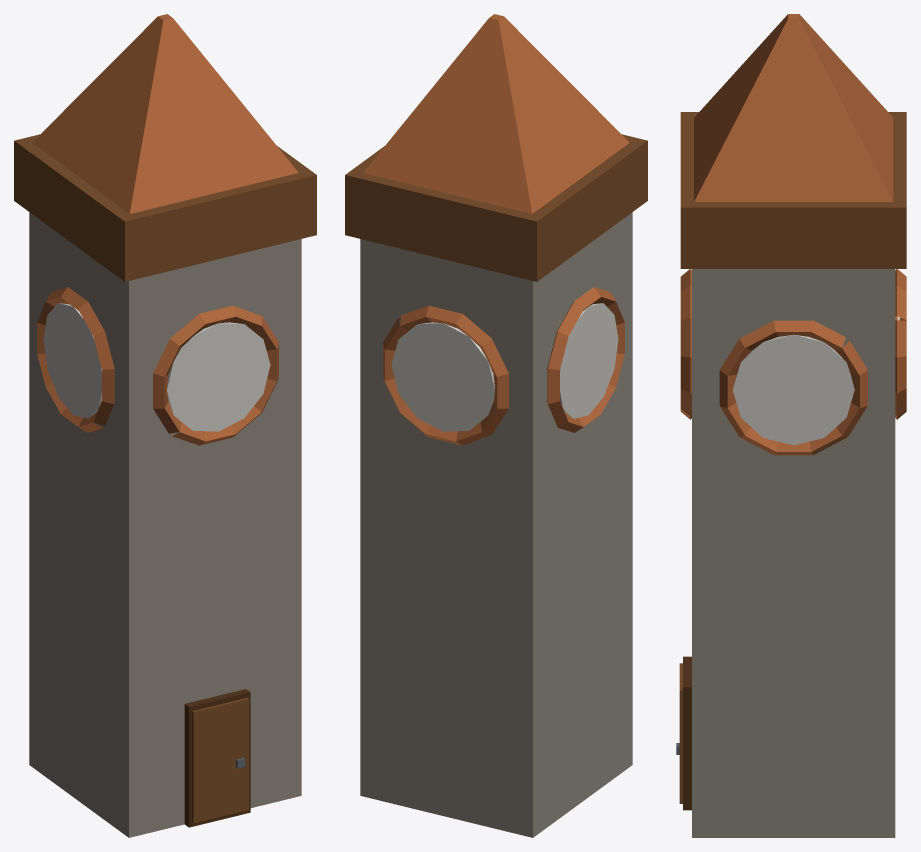
Rendered from gnome_landmark.glb.
3 views of the same model, side by side, from view 1: azimuth 30°, elevation 25°; view 2: azimuth 150°, elevation 25°; view 3: azimuth 270°, elevation 25° (orthographic). The views are drawn at different scales.
Visible parts, largest first — view 1: gnome_landmark; view 2: gnome_landmark; view 3: gnome_landmark.
Part boxes in pixels (<box>): gnome_landmark: <box>14,14,316,837</box>; gnome_landmark: <box>345,14,647,837</box>; gnome_landmark: <box>676,14,906,837</box>.
Size of the model in its own units: 1 by 3.8 by 1.02.
